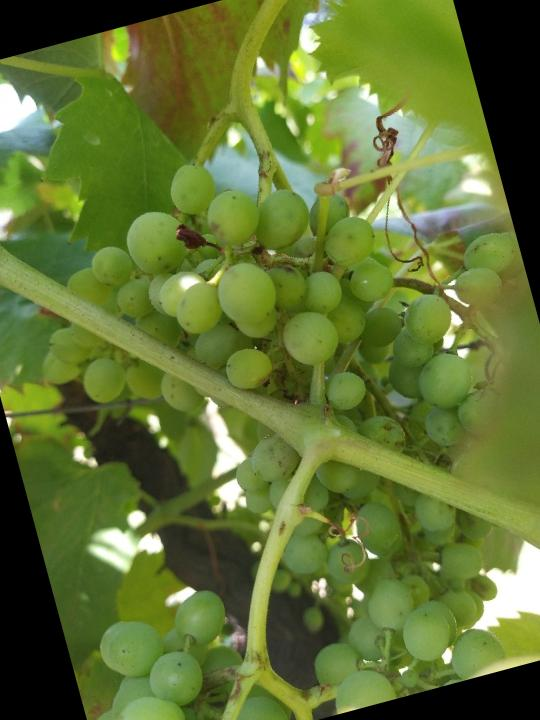grape: (0, 84, 540, 720)
